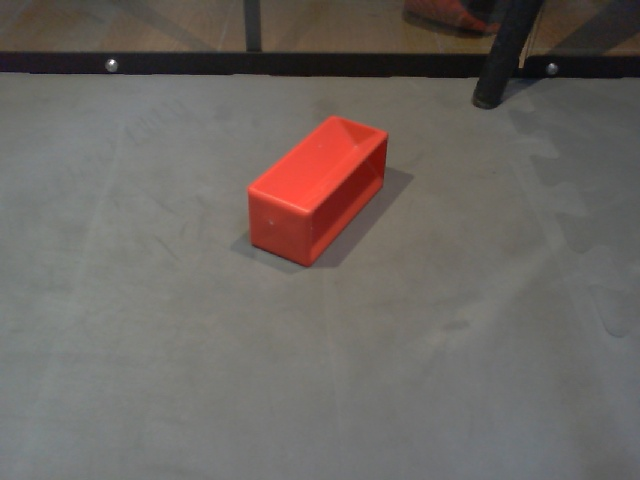RedSample: (244, 112, 391, 271)
